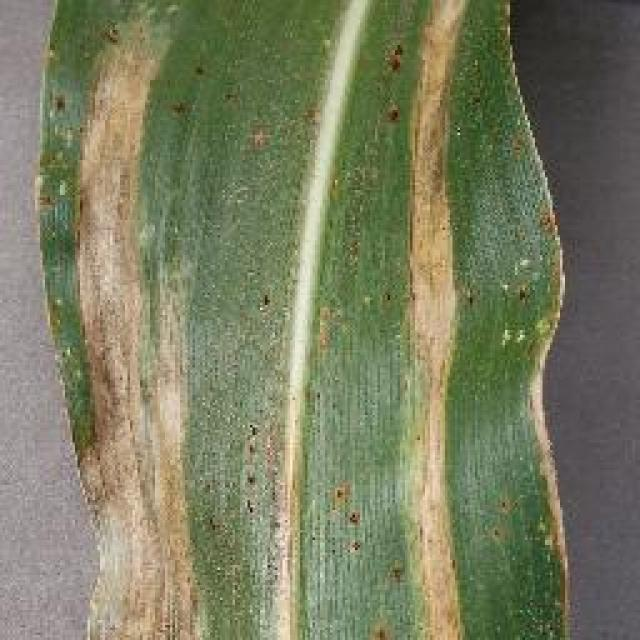Corn___Northern_Leaf_Blight: (20, 0, 600, 640)
